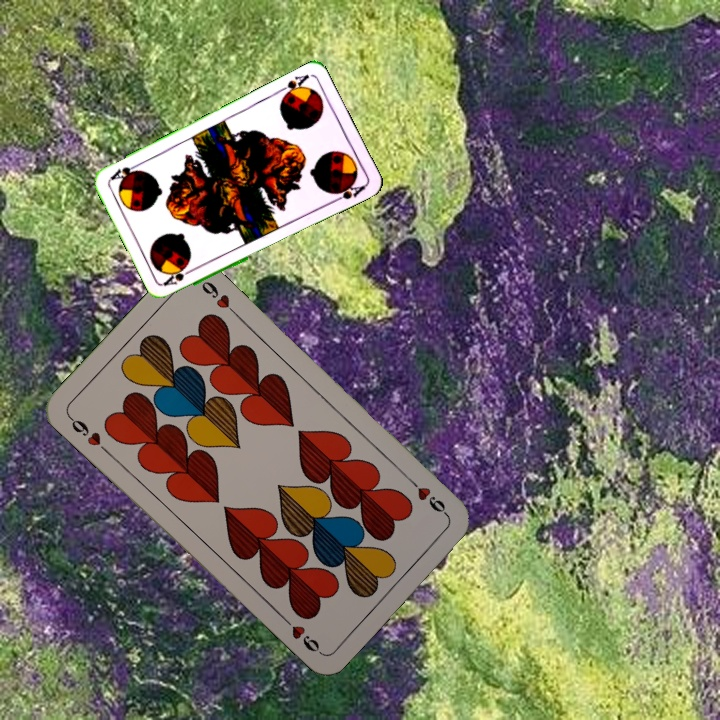H9: (64, 412, 112, 457), (404, 474, 451, 519)
SA: (274, 70, 312, 101), (160, 263, 198, 288)
